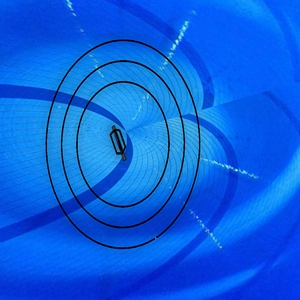circle: (41, 37, 208, 254)
submarine: (107, 122, 136, 164)
